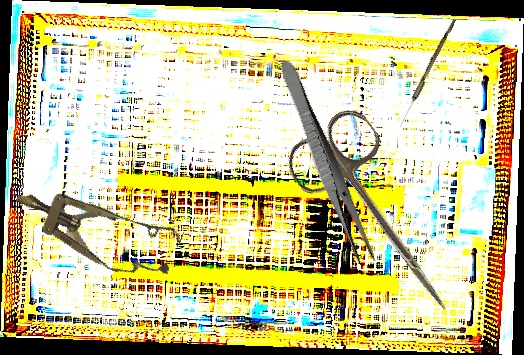Dressing Forceps: (272, 57, 379, 269)
Iris Scissors: (278, 101, 487, 335)
Speculum: (5, 167, 185, 291)
Surgical Spoon: (398, 17, 456, 129)
